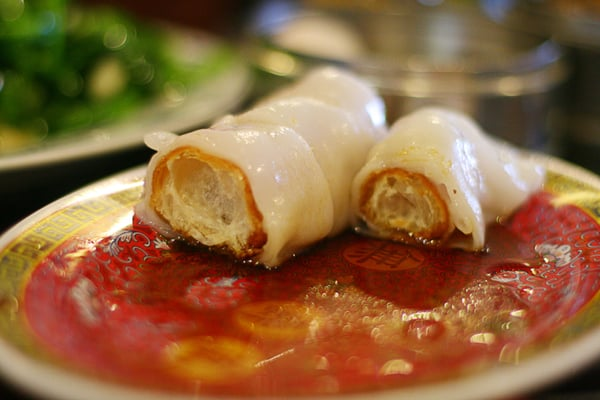pasta: (350, 106, 491, 247)
